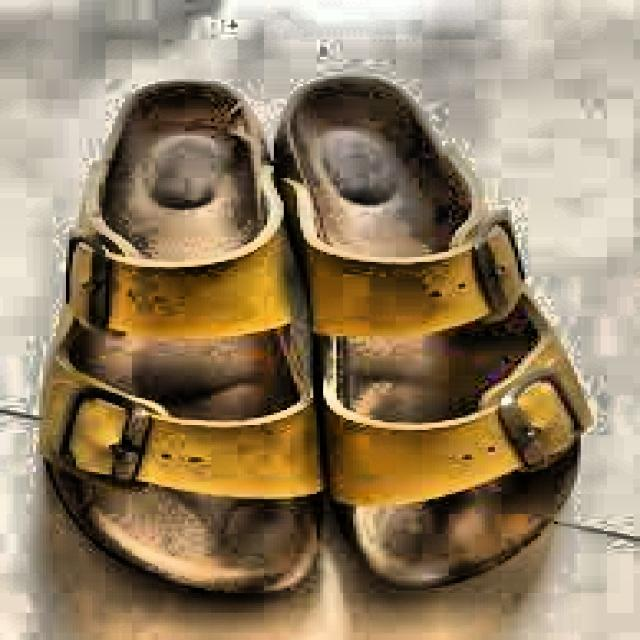shoes: (25, 71, 601, 604)
